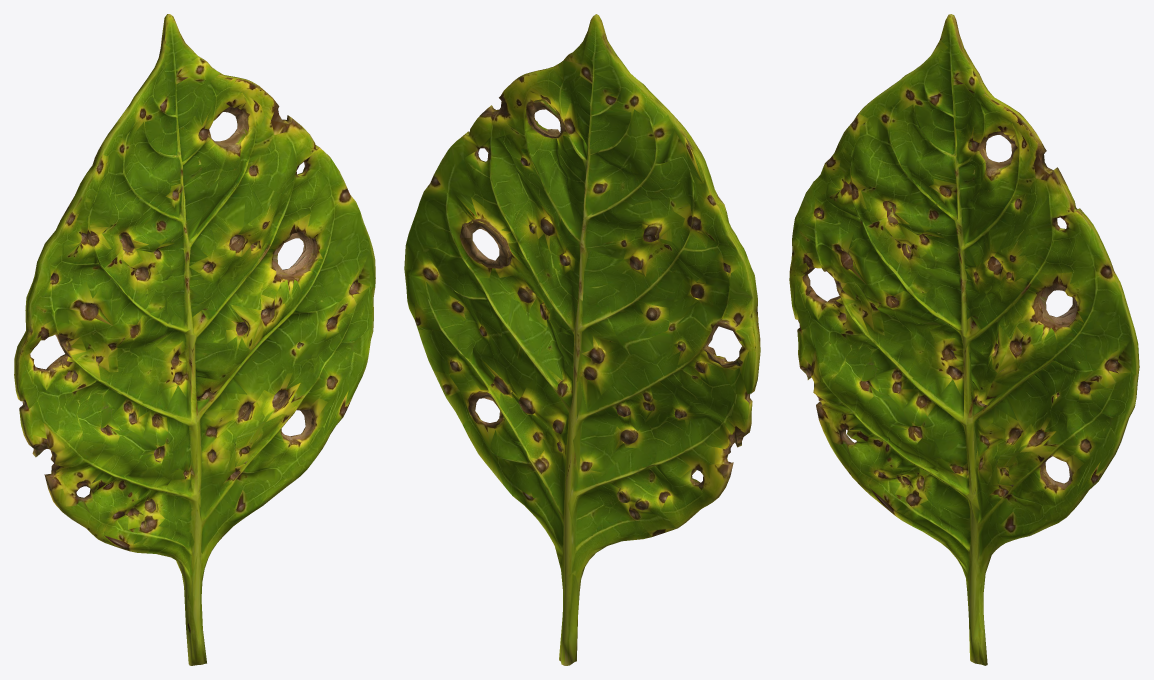
Rendered from chilli_cercospora_leaf_spot.glb.
3 renders of one model, left to right at view 1: azimuth 30°, elevation 25°; view 2: azimuth 150°, elevation 25°; view 3: azimuth 330°, elevation 25°, orthographic. The views are drawn at different scales.
Visible parts, largest first — view 1: chilli_cercospora_leaf_spot; view 2: chilli_cercospora_leaf_spot; view 3: chilli_cercospora_leaf_spot.
Part boxes in pixels (left/top/right/bottom): chilli_cercospora_leaf_spot: left=14, top=14, right=375, bottom=665; chilli_cercospora_leaf_spot: left=404, top=14, right=760, bottom=665; chilli_cercospora_leaf_spot: left=789, top=14, right=1139, bottom=665.
Bounding box in the file's own units: 0.5667 × 1 × 0.0608.
1 material, 1 textured.
